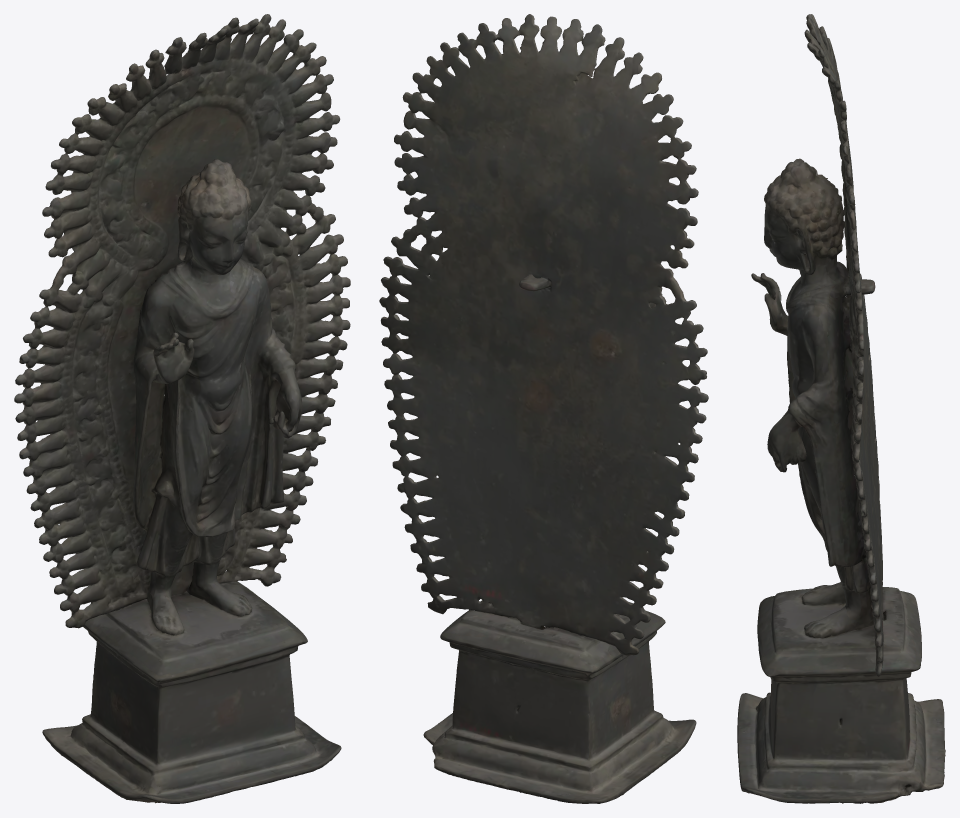
File: preview.glb
The picture shows the model from 3 angles, left to right: view 1: azimuth 30°, elevation 25°; view 2: azimuth 150°, elevation 25°; view 3: azimuth 270°, elevation 25°; orthographic projection.
Parts seen in each view (by area): view 1: ADVIMG_1981_188ab_StandingBuddha_ReTextured_n3d; view 2: ADVIMG_1981_188ab_StandingBuddha_ReTextured_n3d; view 3: ADVIMG_1981_188ab_StandingBuddha_ReTextured_n3d.
Boxes of the visible parts, bbox=[...] form: ADVIMG_1981_188ab_StandingBuddha_ReTextured_n3d: bbox=[14, 14, 350, 803]; ADVIMG_1981_188ab_StandingBuddha_ReTextured_n3d: bbox=[379, 14, 708, 803]; ADVIMG_1981_188ab_StandingBuddha_ReTextured_n3d: bbox=[737, 14, 945, 803].
Size of the model in its own units: 0.1594 by 0.3348 by 0.0874.
1 material, 1 textured.
